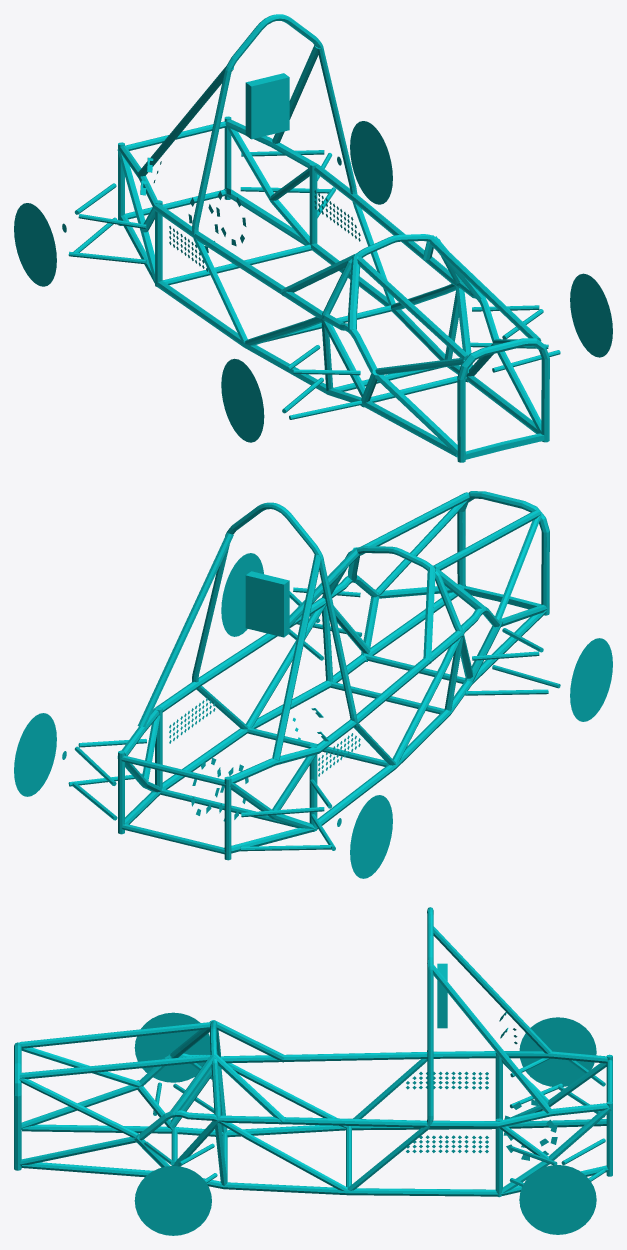
File: carblue.obj
The picture shows the model from 3 angles, top to bottom: view 1: azimuth 30°, elevation 25°; view 2: azimuth 150°, elevation 25°; view 3: azimuth 270°, elevation 25°; orthographic projection. The views are drawn at different scales.
Visible parts, largest first — view 1: Cylinder.001; view 2: Cylinder.001; view 3: Cylinder.001.
Part boxes in pixels (x1,y1,x2,y2): Cylinder.001: (14, 14, 612, 462); Cylinder.001: (14, 491, 612, 878); Cylinder.001: (14, 907, 612, 1235).
Size of the model in its own units: 2.84 by 2.2 by 4.69.
